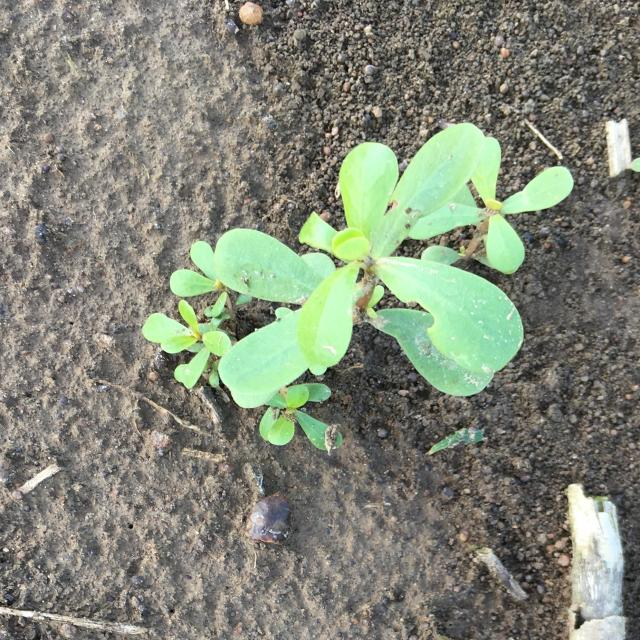Purslane: (142, 123, 573, 451)
